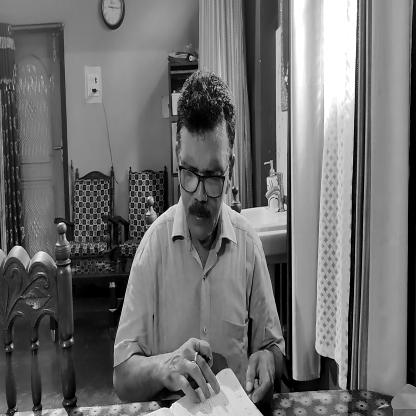Normal: (171, 70, 234, 240)
